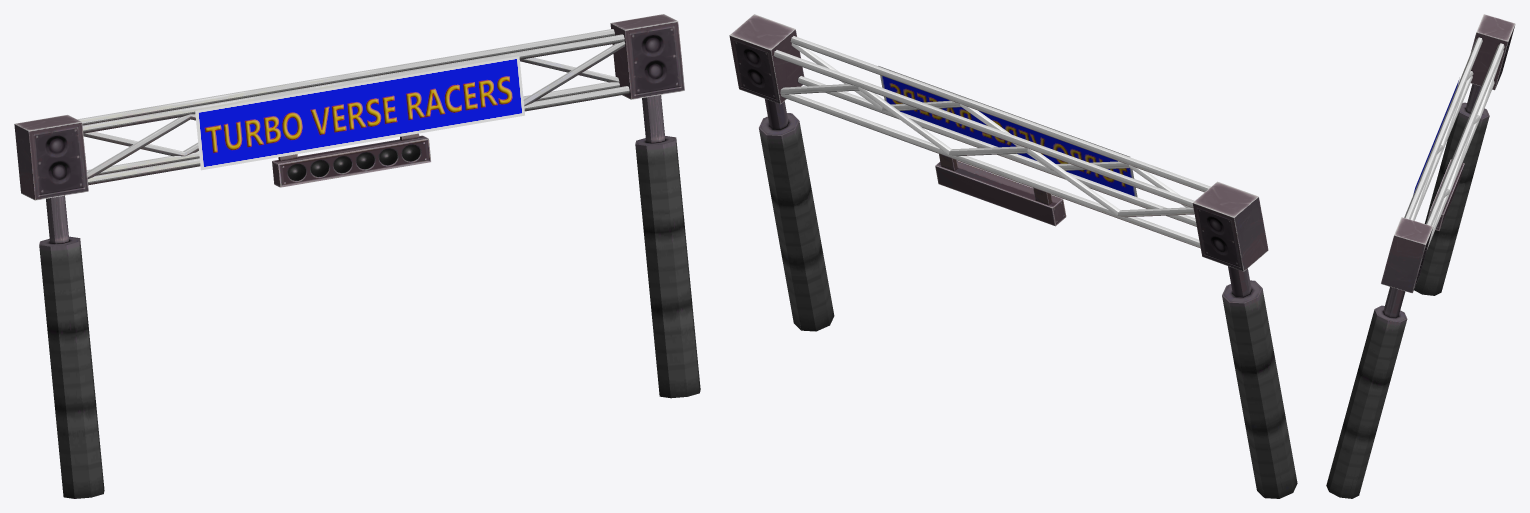
File: Start Point.fbx
3 renders of one model, left to right at view 1: azimuth 30°, elevation 25°; view 2: azimuth 150°, elevation 25°; view 3: azimuth 270°, elevation 25°, orthographic. The views are drawn at different scales.
Parts seen in each view (by area): view 1: Start_Point; view 2: Start_Point; view 3: Start_Point.
Part boxes in pixels (box(x1,y1,x2,y2)): Start_Point: box(14, 14, 700, 498); Start_Point: box(729, 14, 1297, 498); Start_Point: box(1326, 14, 1515, 498).
Bounding box in the file's own units: 1159 × 649 × 404.
